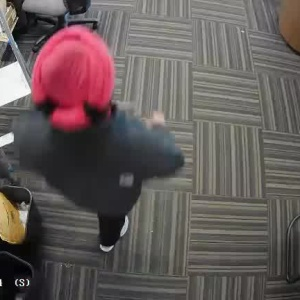person: (17, 30, 151, 226)
